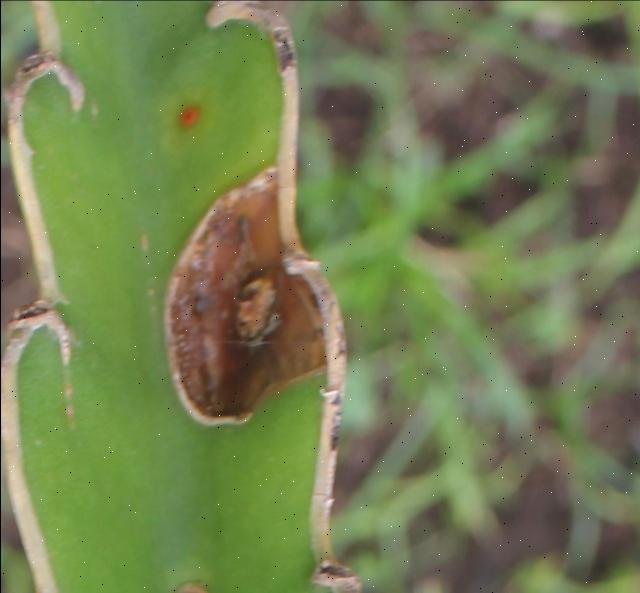stemcanker: (140, 145, 329, 435)
